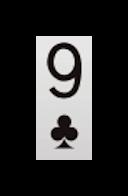9C: (40, 40, 86, 154)
